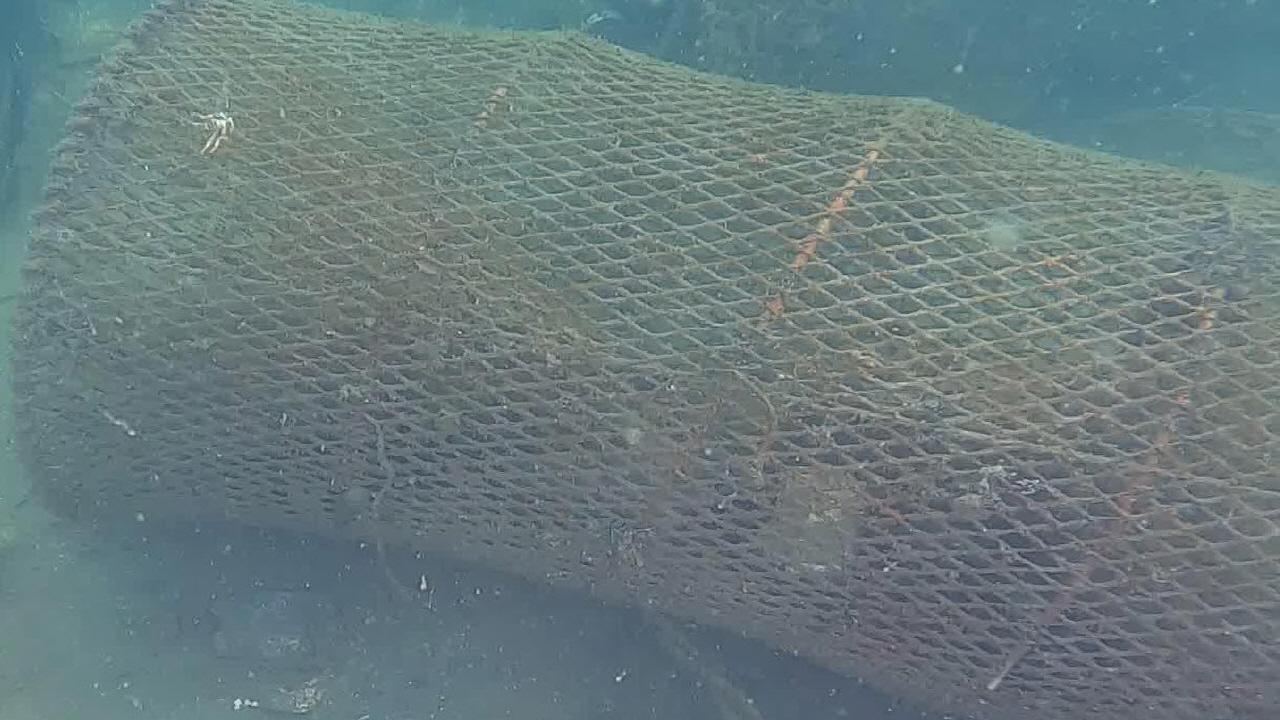spring fish trap: (7, 0, 1280, 720)
